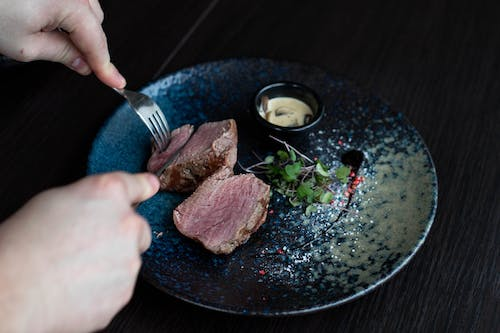knife: (152, 149, 183, 179)
